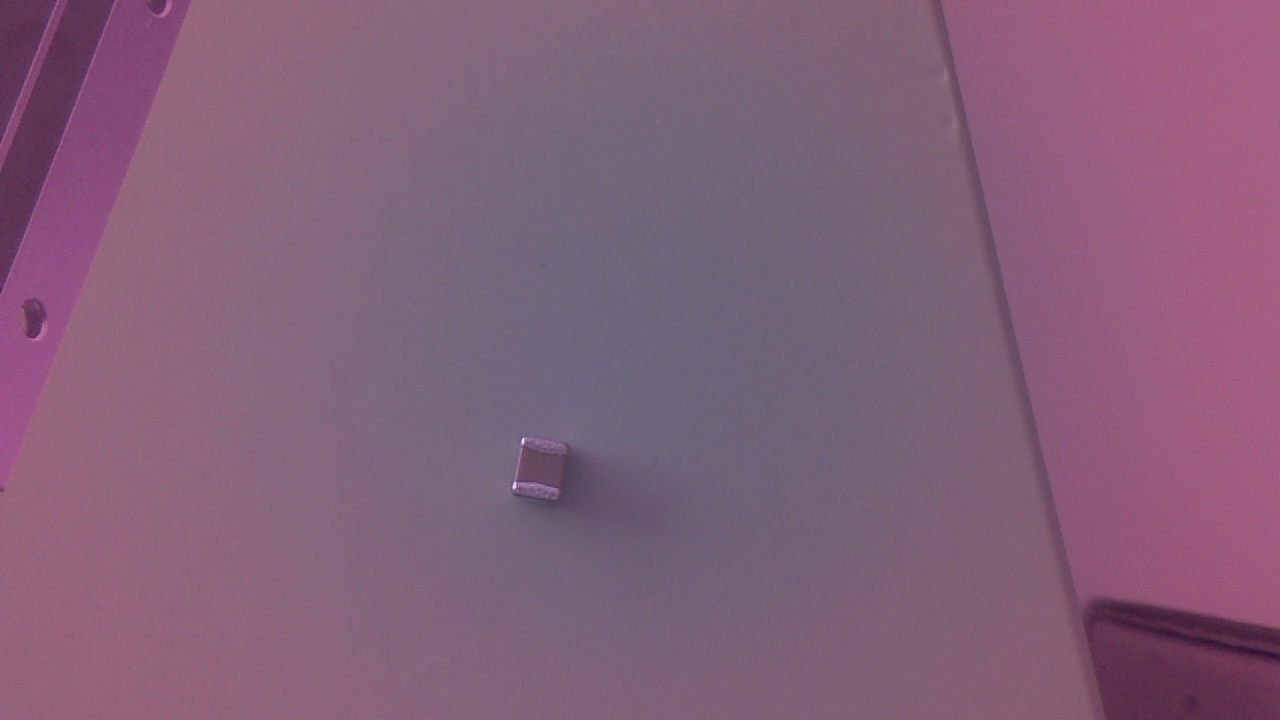Condensator: (512, 434, 584, 514)
